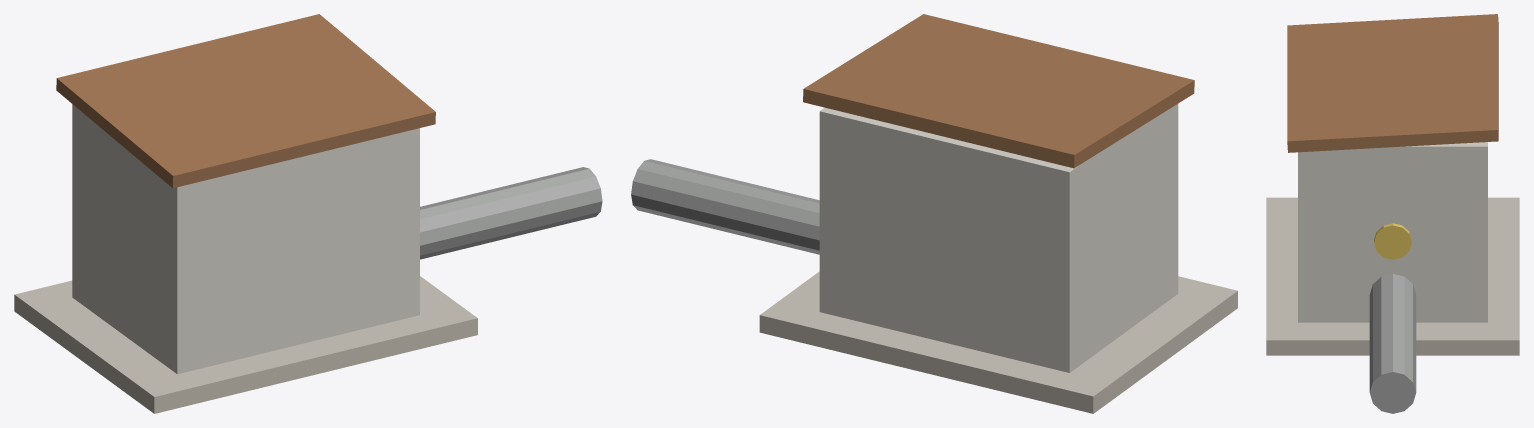
Rendered from BrinePumpHouse.glb.
3 renders of one model, left to right at view 1: azimuth 30°, elevation 25°; view 2: azimuth 150°, elevation 25°; view 3: azimuth 270°, elevation 25°, orthographic. The views are drawn at different scales.
Visible parts, largest first — view 1: Pump house, Pump roof, Pump plinth, Brine main; view 2: Pump house, Pump roof, Pump plinth, Brine main; view 3: Pump house, Pump roof, Pump plinth, Brine main, Valve wheel.
Part boxes in pixels (x1,y1,x2,y2): Pump house: [72, 104, 419, 374]; Pump roof: [56, 14, 435, 188]; Pump plinth: [14, 276, 477, 413]; Brine main: [420, 167, 602, 259]; Pump house: [819, 104, 1178, 372]; Pump roof: [803, 14, 1194, 168]; Pump plinth: [759, 271, 1237, 413]; Brine main: [631, 159, 819, 254]; Pump house: [1298, 142, 1487, 322]; Pump roof: [1287, 14, 1498, 152]; Pump plinth: [1266, 197, 1519, 355]; Brine main: [1369, 274, 1416, 413]; Valve wheel: [1374, 223, 1411, 259].
Size of the model in its own units: 5 by 2.22 by 2.4.
